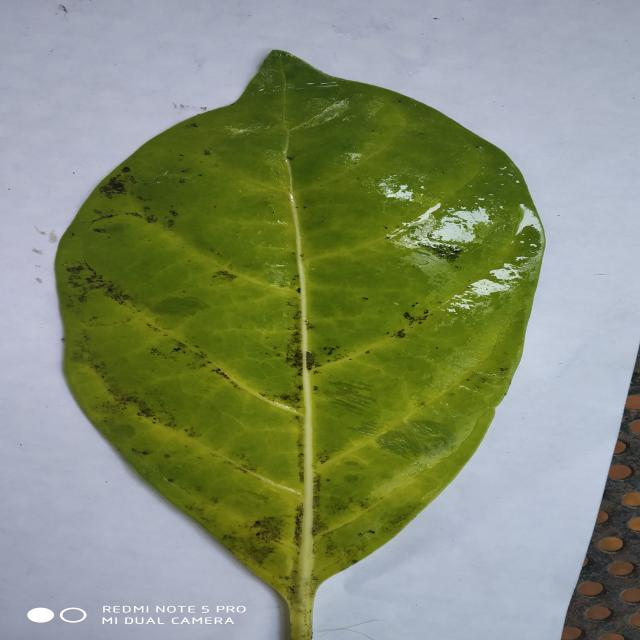leaf spot: (56, 51, 544, 640)
